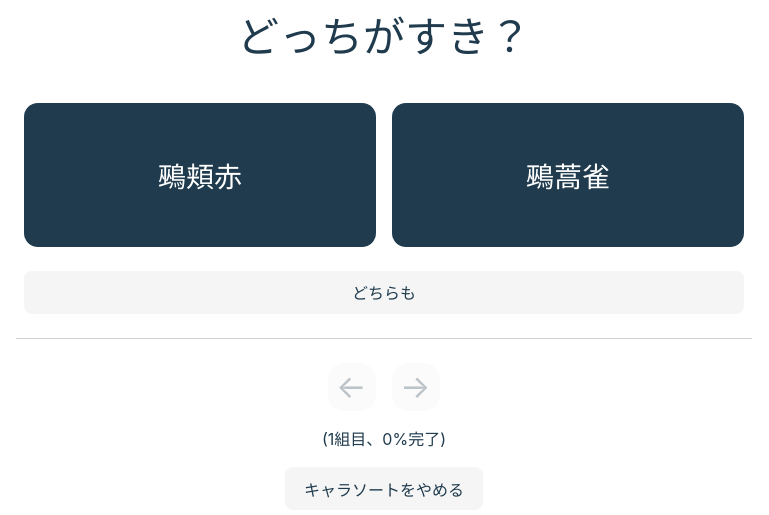
Test: 操作のやり直し › undo
This screenshot has width=769, height=515.
Click the button "鵐頬赤" at (200, 175), box [24, 103, 376, 247]
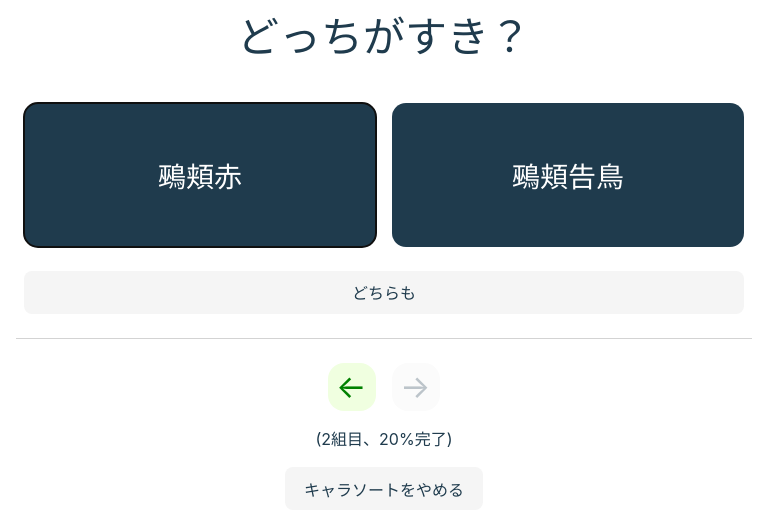
Result: the text "(2組目、20%完了)" is shown at [316, 427, 452, 451]
Click the button "←" at (352, 387), box [328, 363, 376, 411]
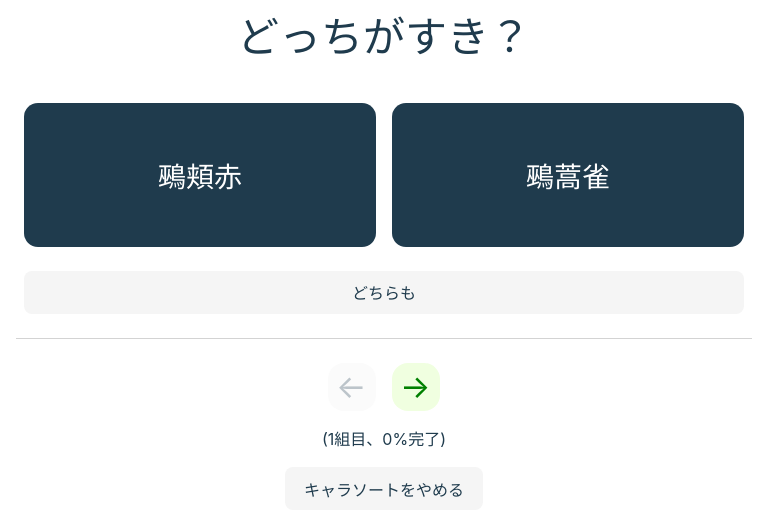
Expected: the button "鵐頬赤" is shown, [24, 103, 376, 247]
Result: the text "(1組目、0%完了)" is shown at [322, 427, 446, 451]
Result: the button "鵐蒿雀" is shown at [392, 103, 744, 247]
